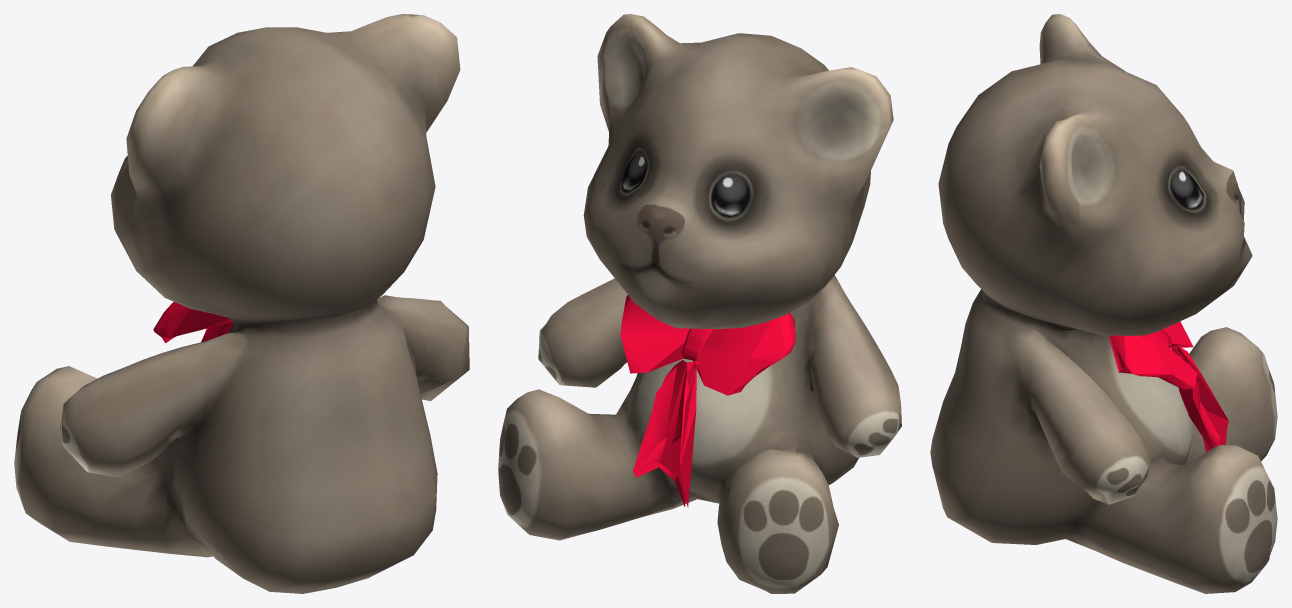
3 views of the same model, side by side, from view 1: azimuth 30°, elevation 25°; view 2: azimuth 150°, elevation 25°; view 3: azimuth 270°, elevation 25° (orthographic). The views are drawn at different scales.
Parts seen in each view (by area): view 1: smMAT0110012; view 2: smMAT0110012; view 3: smMAT0110012.
Part boxes in pixels (x1,y1,x2,y2): smMAT0110012: (14, 14, 469, 593); smMAT0110012: (498, 14, 901, 593); smMAT0110012: (930, 14, 1277, 593).
Size of the model in its own units: 116 by 145 by 98.13.
1 material, 1 textured.
